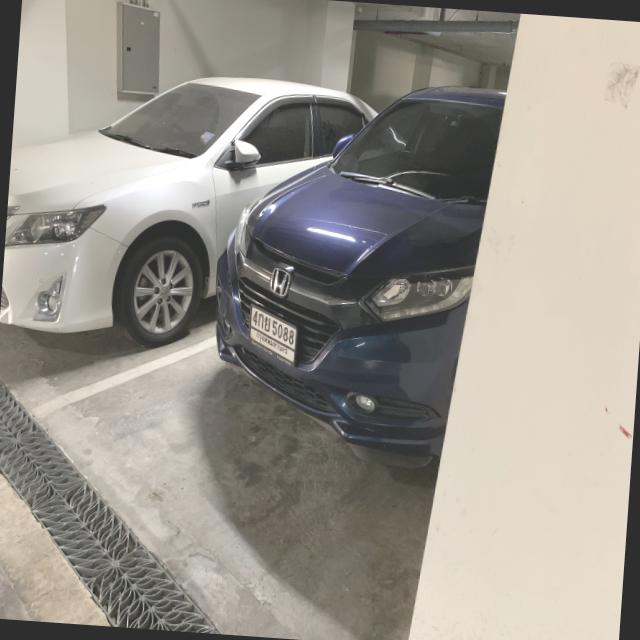license_plate: (244, 300, 301, 374)
